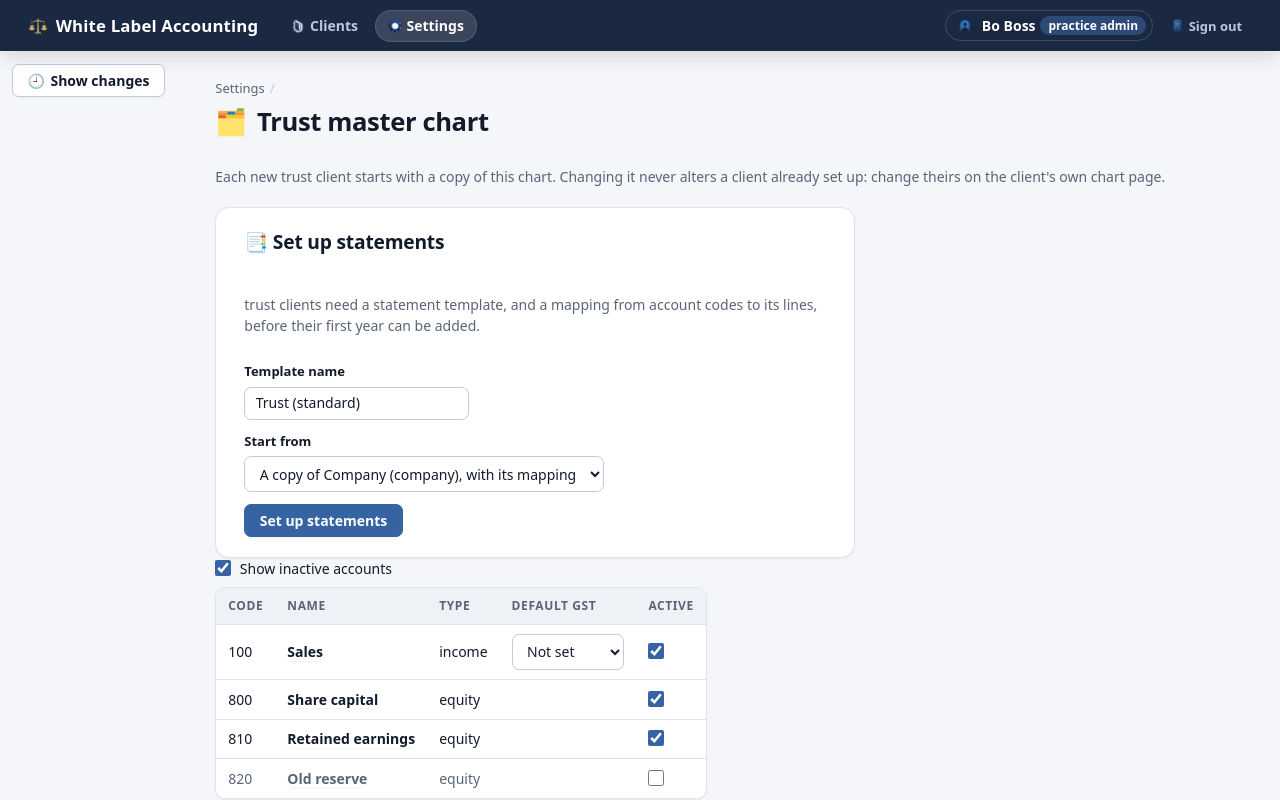
Test: setting up statements for a new entity type › copies another type's template and mapping, then opens the template
Click the button "Set up statements" at (323, 521), box [244,504,403,537]
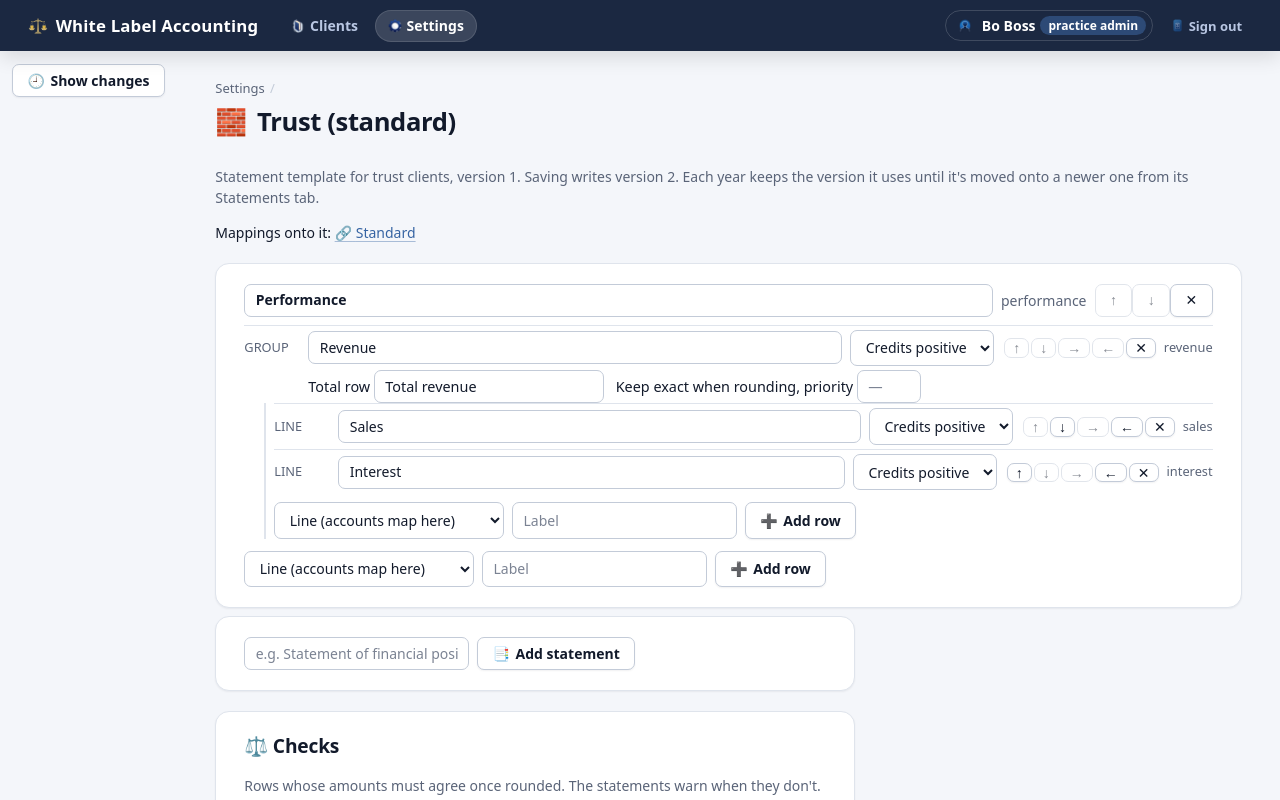
Expected: the heading "🧱 Trust (standard)" is shown, [215,107,456,138]
